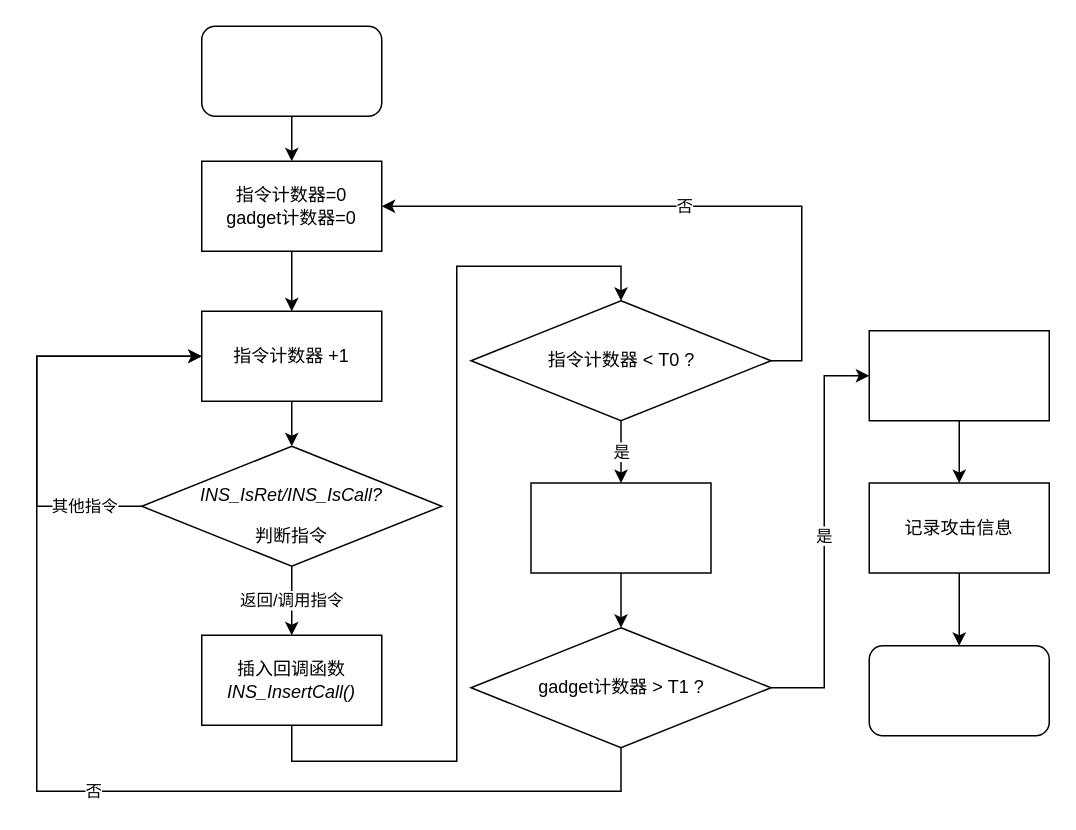
Image size: 1076x830. Some labels were removed from this diagram. The shapes that lost their labels are listed below. From the top down, each one's centre as x and y in pixels, then its label:
point (291, 70): 检测开始
point (958, 375): 标记程序被攻击
point (620, 527): gadget计数器 +1
point (958, 690): 检测结束
